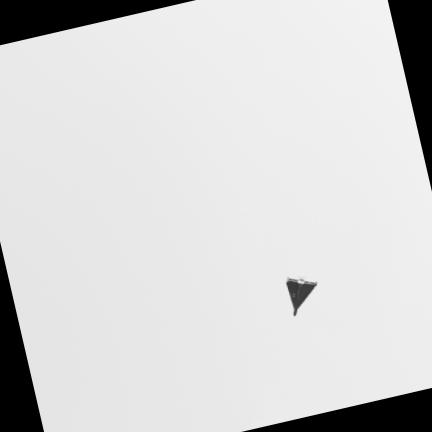Shahed: (287, 276, 316, 314)
